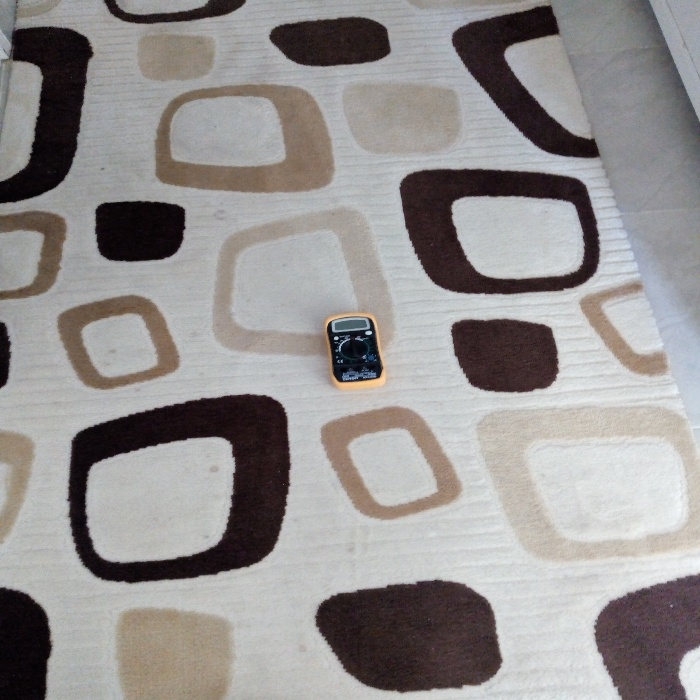multimetre: (316, 301, 399, 393)
